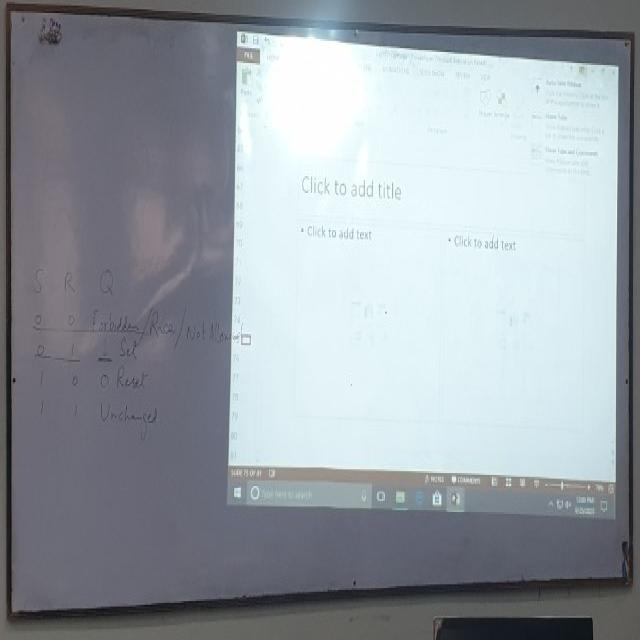Slide: (226, 31, 615, 529)
White-board: (8, 6, 633, 618)
